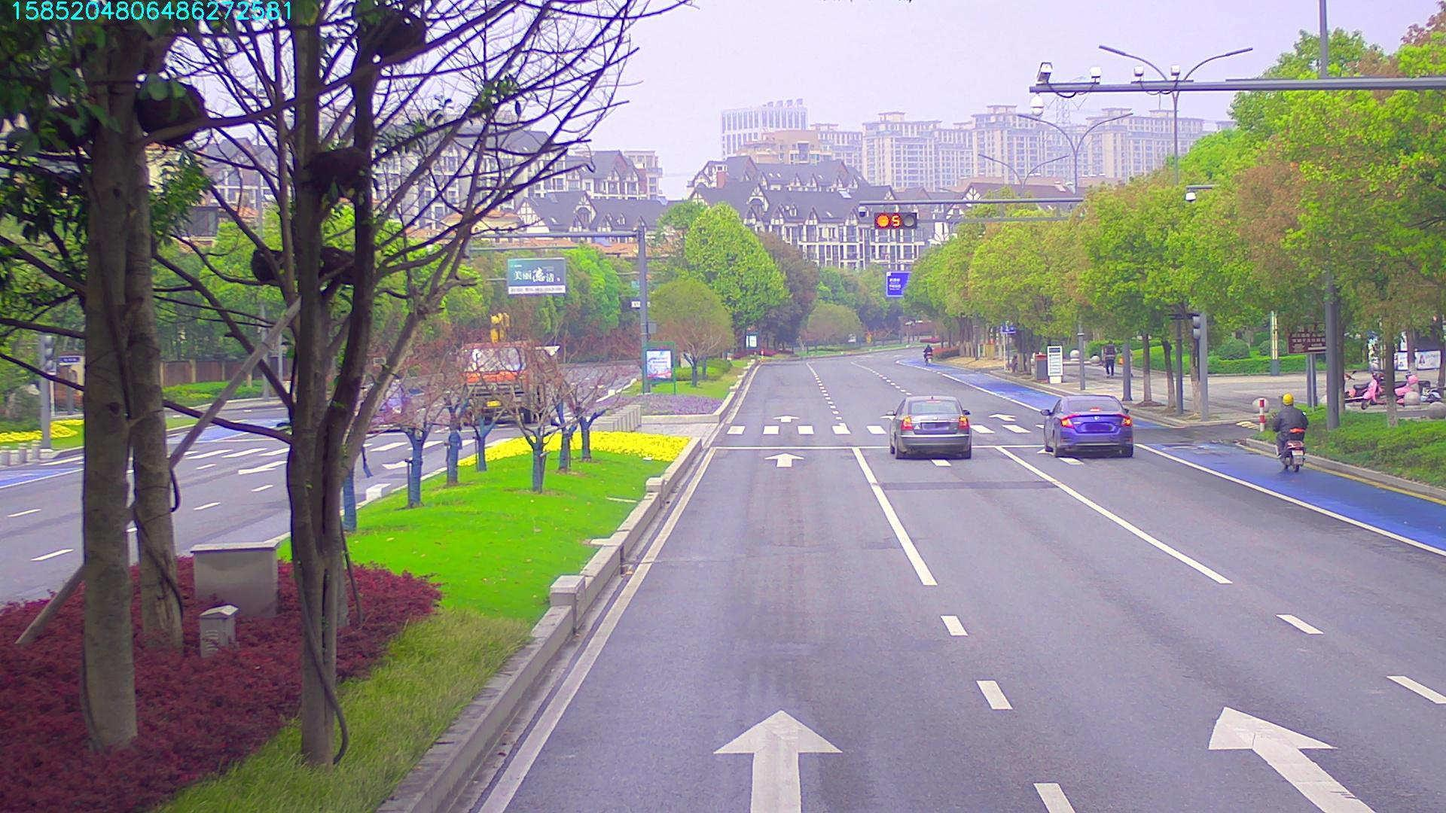red: (875, 212, 913, 227)
